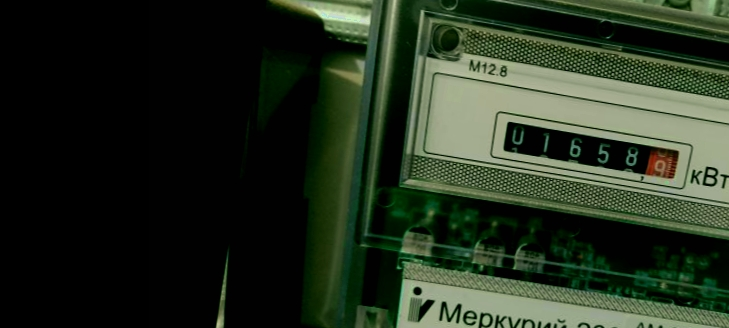0: (510, 122, 527, 145)
1: (540, 129, 553, 152)
5: (596, 139, 613, 164)
6: (567, 134, 584, 157)
8: (624, 142, 641, 166)
9: (650, 155, 667, 178)
screen: (483, 103, 702, 195)
